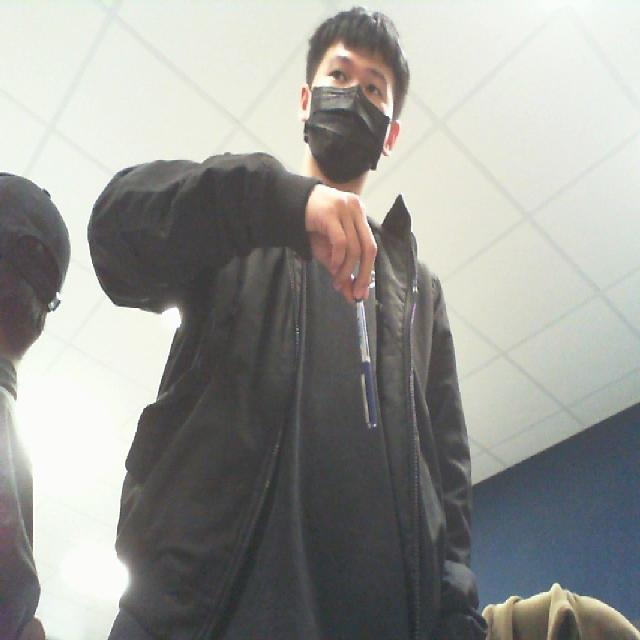Pen: (321, 264, 388, 469)
